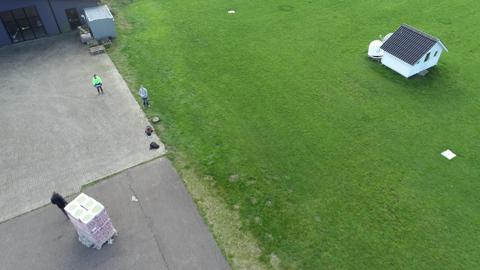RockwoolPallet: (64, 194, 117, 250)
